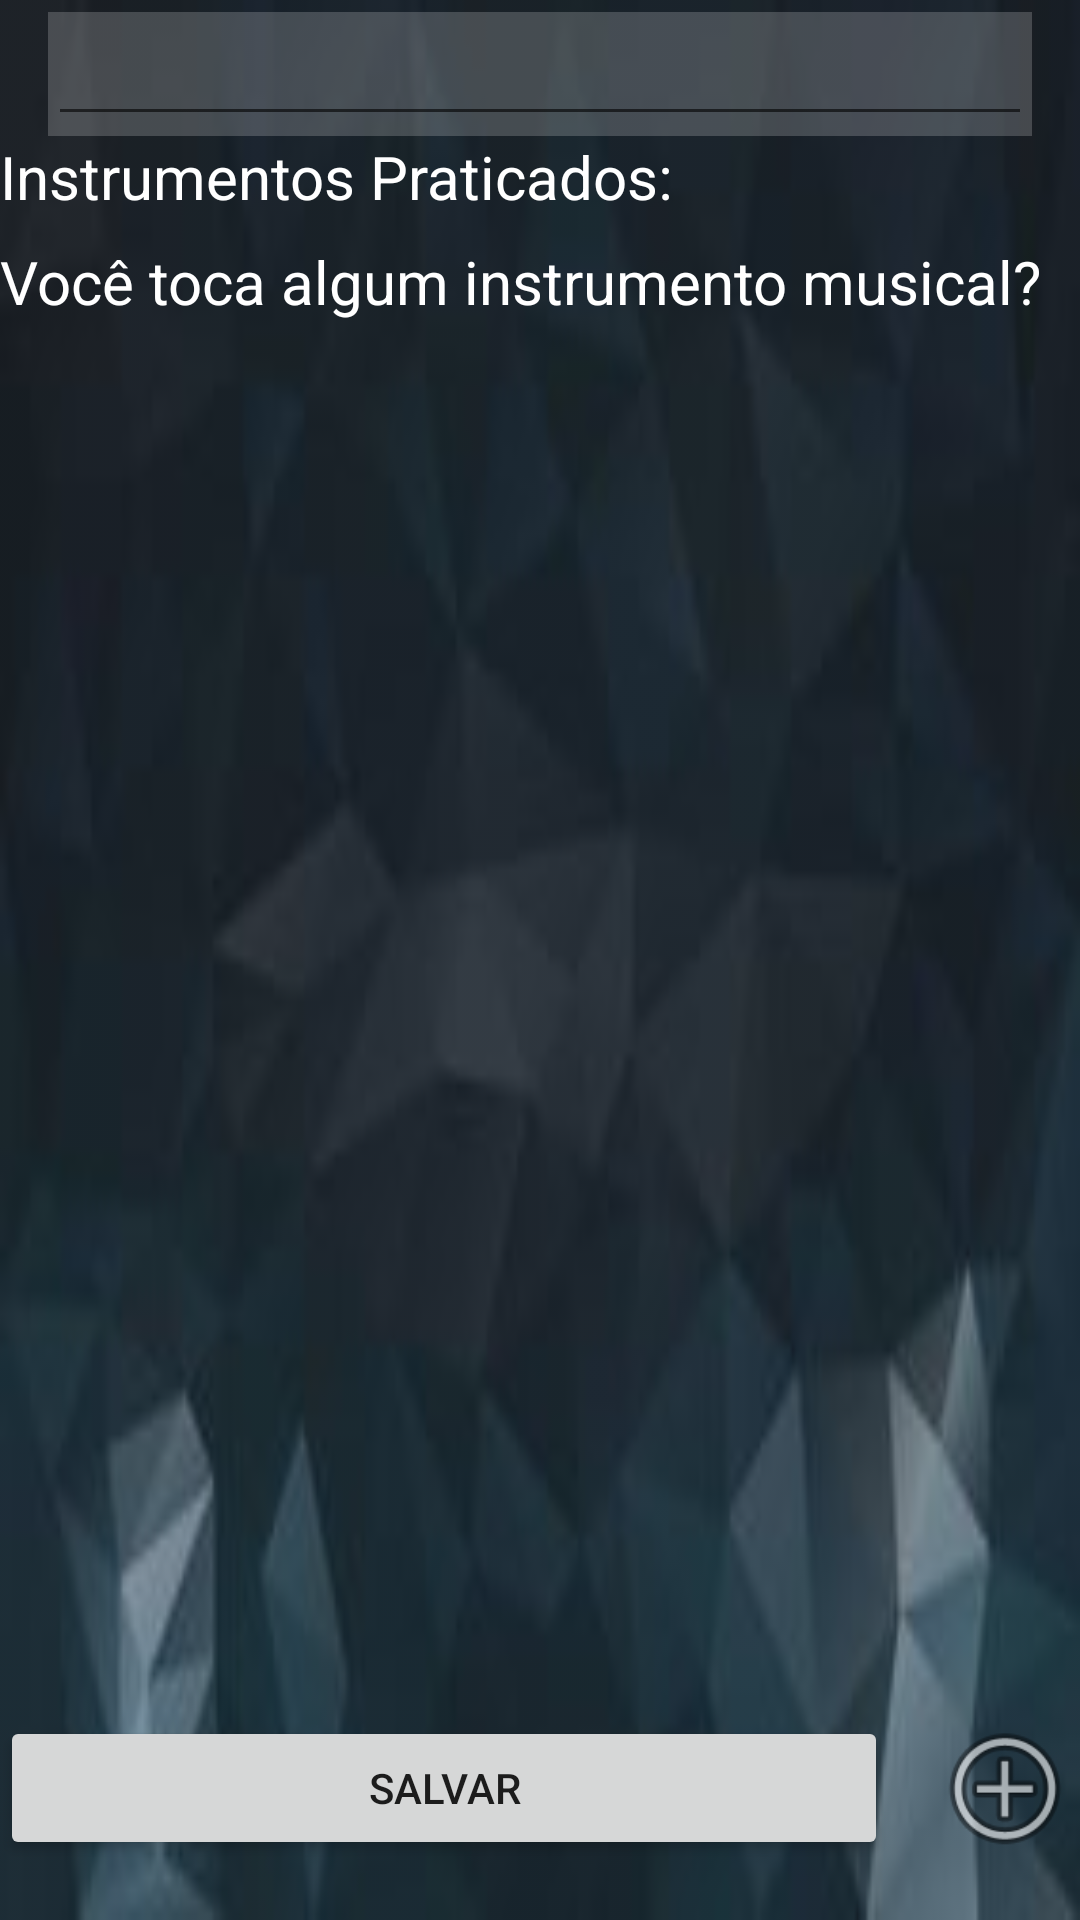

Where to tap for icons on this 1080x1920 app screen, as [x,y]:
add: [1005,1788]
